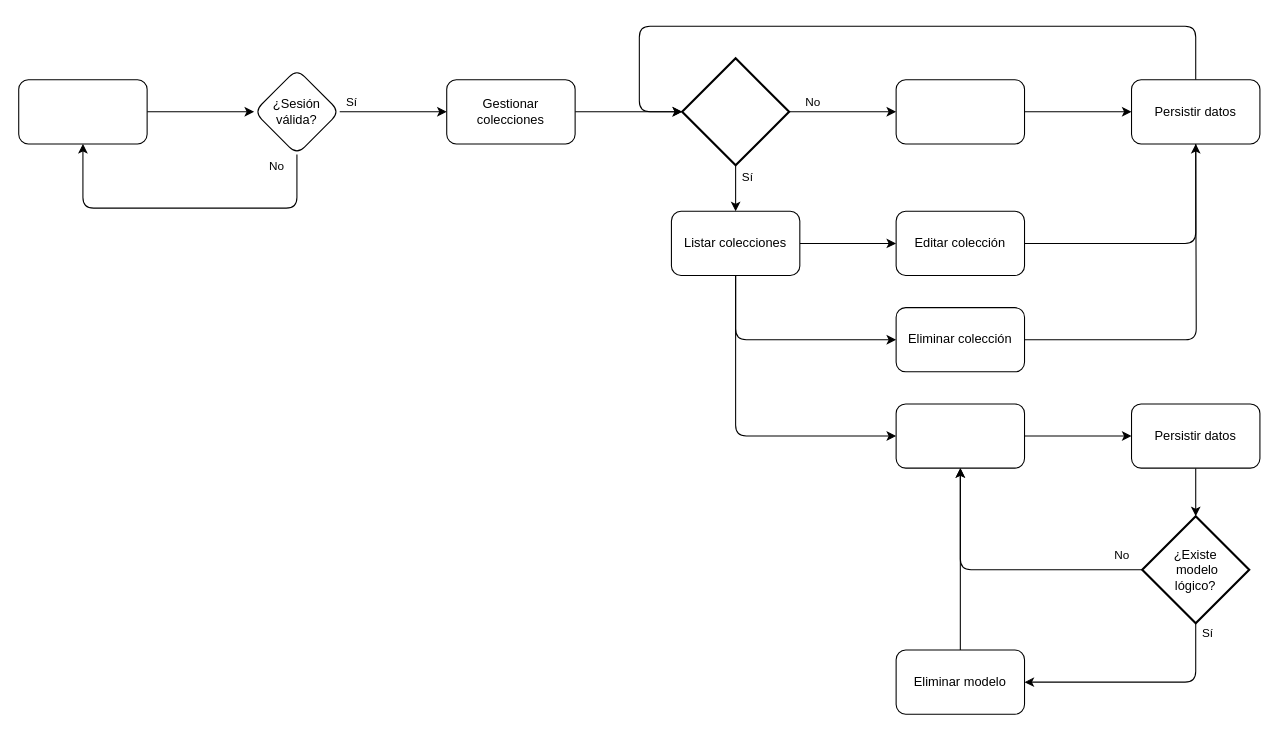
The diagram is 1279 pixels wide and 733 high, and some of its shapes have lost their labels. The centre of each missing label's shape, as x and y in pixels:
"Configurar campos" belongs at pixel 960 435.
"Crear colección" belongs at pixel 960 111.
"Iniciar sesión" belongs at pixel 82 111.
"¿Hay colecciones?" belongs at pixel 735 111.
